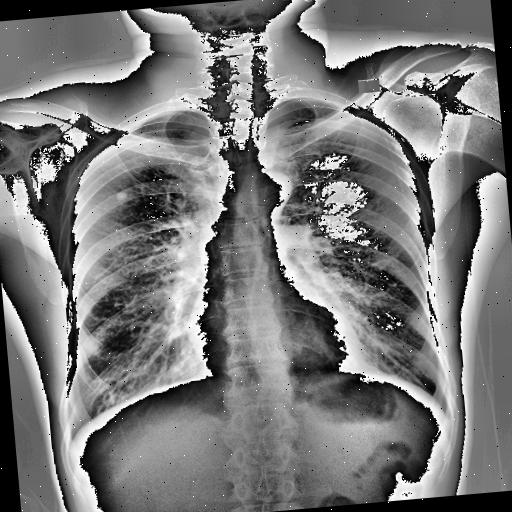0- Aortic enlargement: (241, 170, 293, 208)
8- Nodule-Mass: (114, 190, 128, 202), (114, 192, 128, 200), (116, 192, 128, 200)
